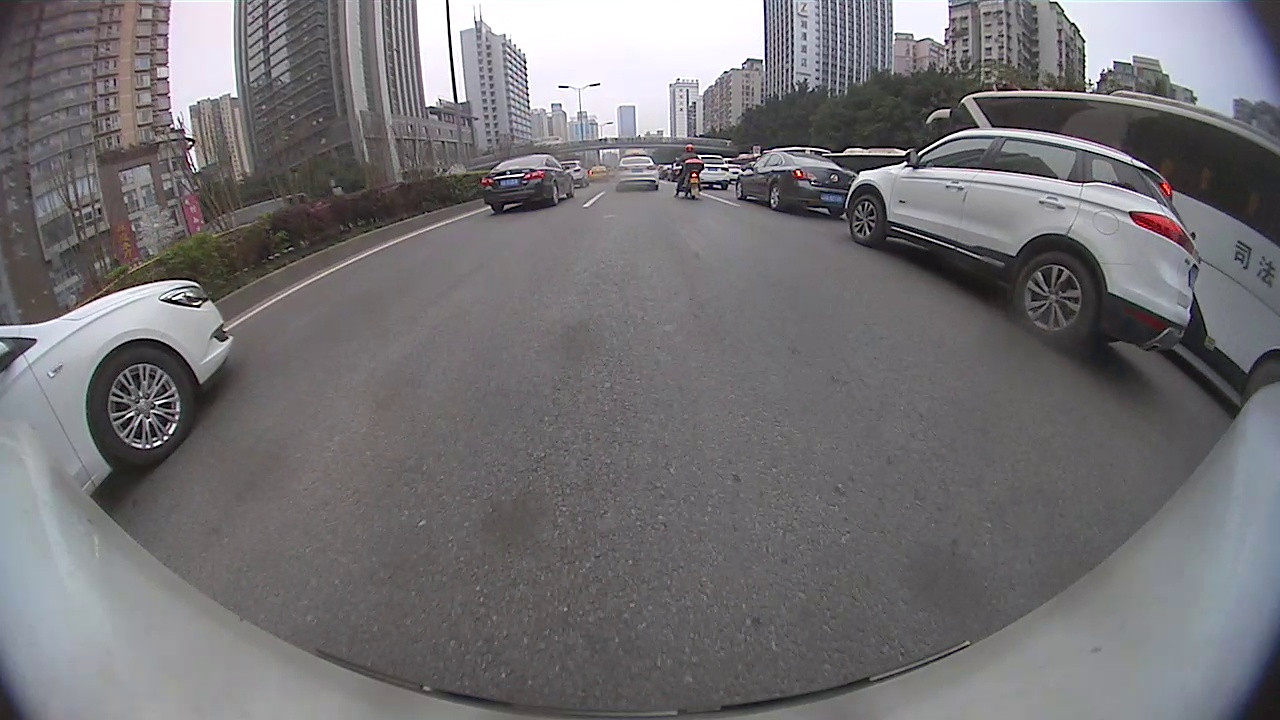bus: (927, 87, 1277, 399)
car: (845, 127, 1200, 357), (1, 277, 236, 497), (733, 149, 856, 218), (480, 151, 578, 214), (617, 153, 660, 192)
front: (87, 346, 197, 467), (847, 193, 887, 246), (733, 179, 746, 200)
rear: (1014, 252, 1097, 348), (767, 182, 782, 211), (551, 184, 561, 206)
rider: (674, 142, 703, 200)
